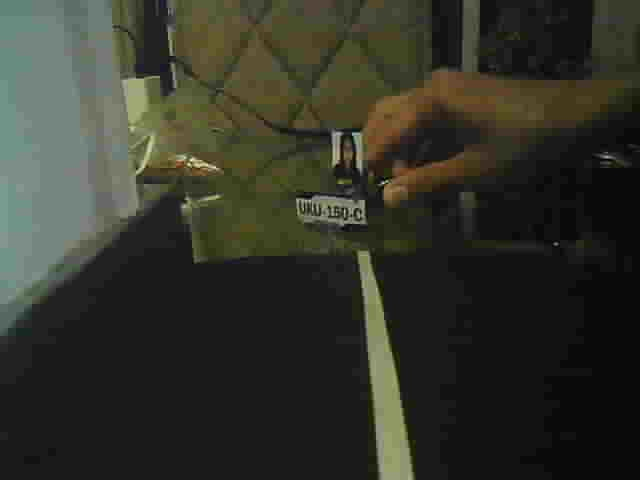PLACA: (293, 189, 371, 233)
ROSTRO: (331, 130, 363, 180)
